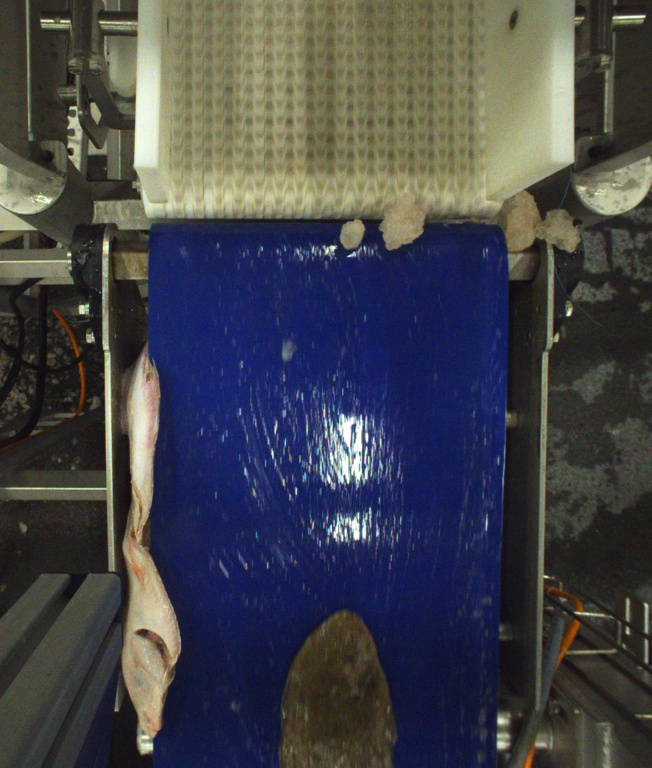SOL: (278, 611, 399, 768)
